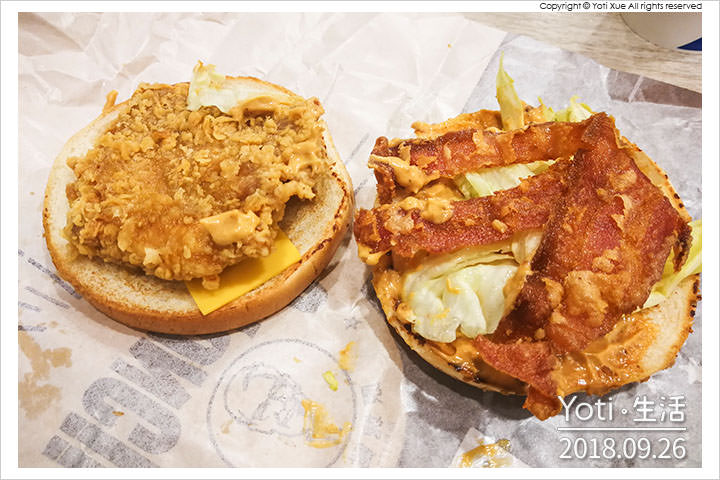fried_chicken: (69, 77, 325, 280)
